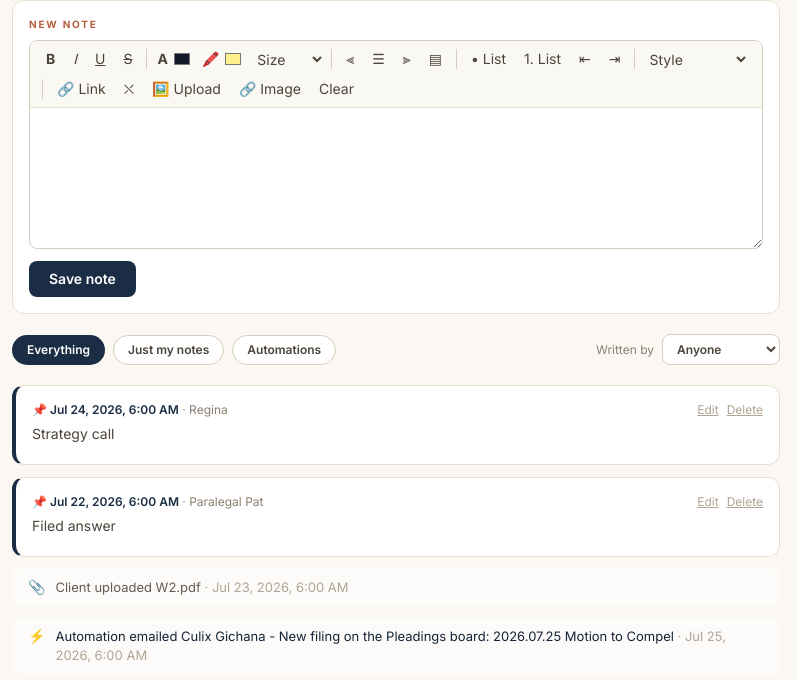
Test: file links › 'Just my notes' still hides automations
What coordinates should you click on to do the following:
click the button "Just my notes"
I would click on:
 (169, 350)
Its box is 113,334 -> 224,364.
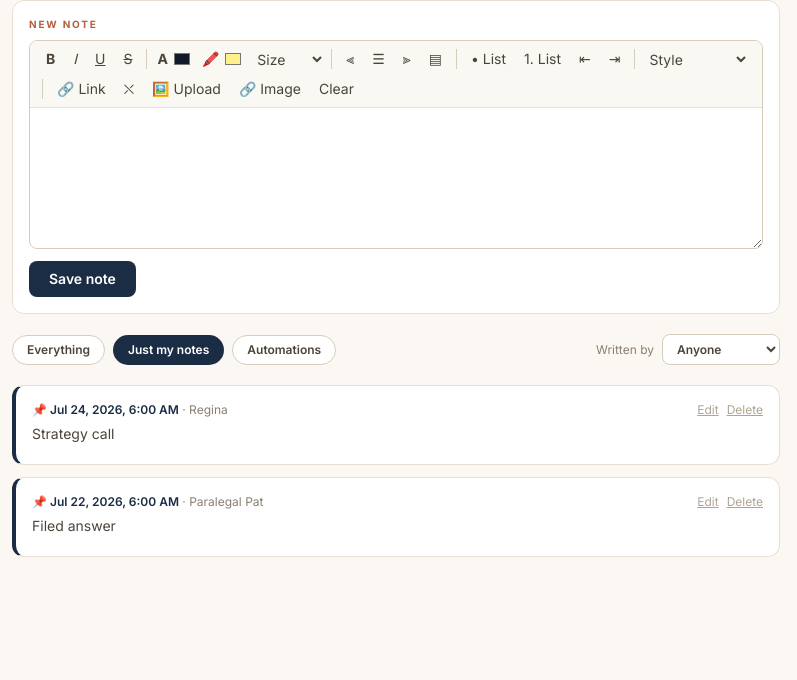
Expected: the link "Motion to Compel" is gone
